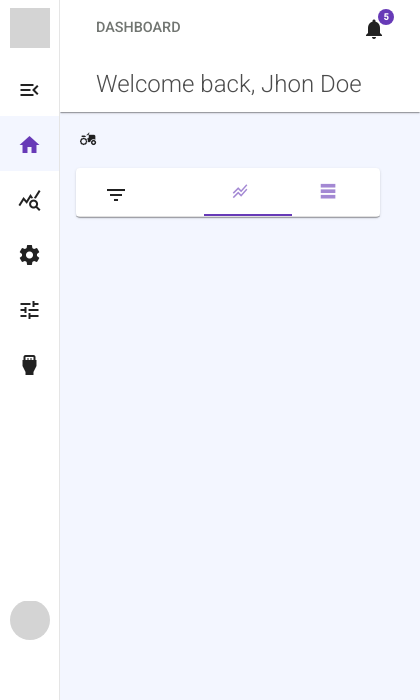
Test: test farm dashboard component › [farm]/filters › page display on mobile screen › close filters drawer button should work
This screenshot has width=420, height=700.
Click the button with test id "filters-toggle-button" at [116, 194], box [96,174,136,214]
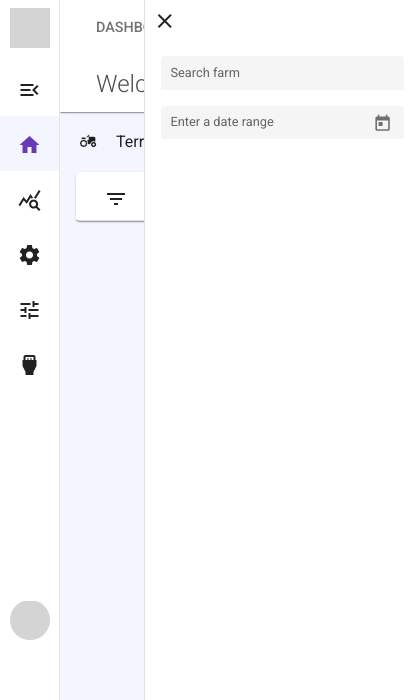
Click the button with test id "filters-close-button" at [165, 20], box [145,0,185,40]
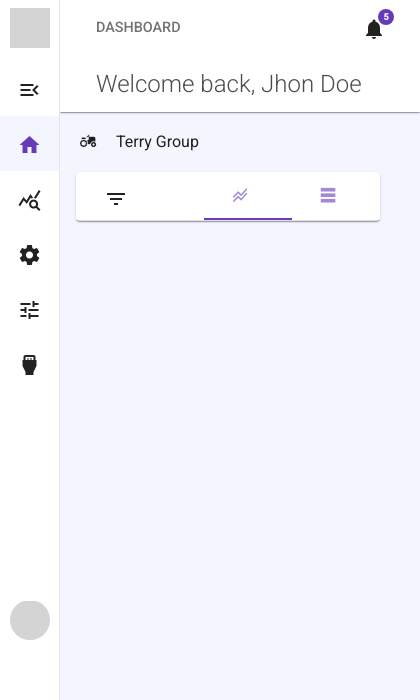
Now the element with test id "filters-drawer" is gone
